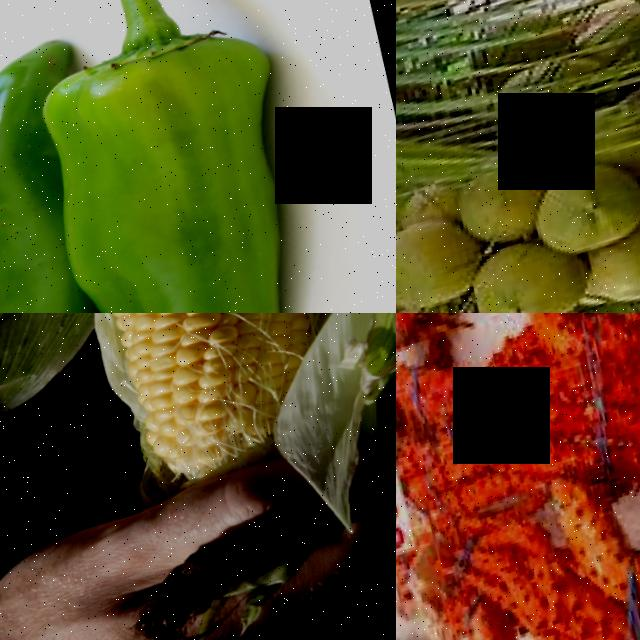chilli: (9, 0, 371, 313), (0, 50, 142, 313)
coconuts: (396, 89, 640, 313)
corn: (77, 313, 334, 475)
crab: (396, 313, 640, 559), (508, 490, 640, 640)
